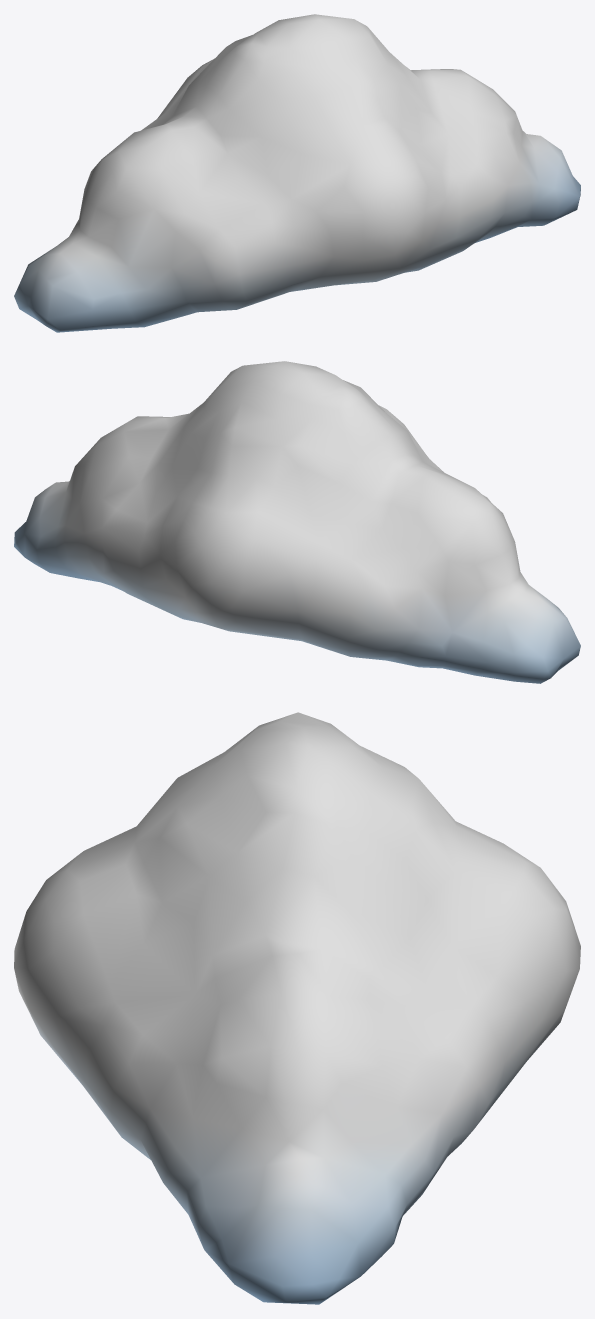
Rendered from cloud3.glb.
The picture shows the model from 3 angles, top to bottom: view 1: azimuth 30°, elevation 25°; view 2: azimuth 150°, elevation 25°; view 3: azimuth 270°, elevation 25°; orthographic projection. The views are drawn at different scales.
Parts seen in each view (by area): view 1: cloud3; view 2: cloud3; view 3: cloud3.
Boxes of the visible parts, bbox=[...] form: cloud3: bbox=[14, 14, 580, 332]; cloud3: bbox=[14, 361, 580, 683]; cloud3: bbox=[14, 712, 580, 1304].
Bounding box in the file's own units: 1.9 × 0.8396 × 1.12.
